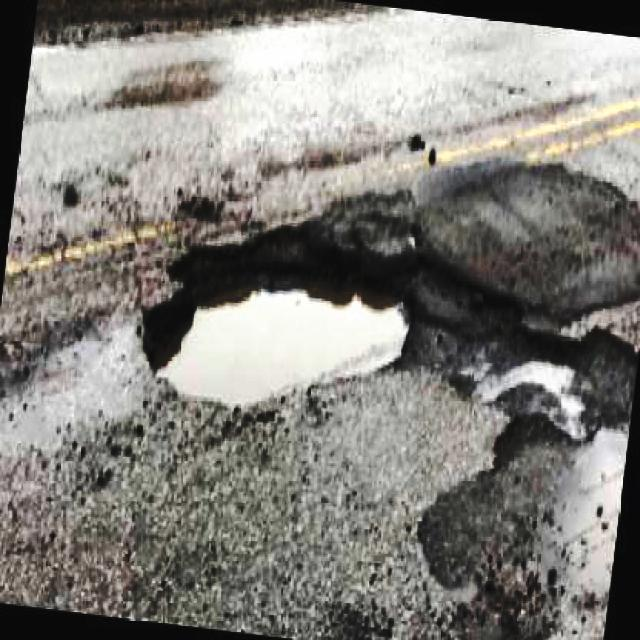pothole: (137, 216, 425, 407), (431, 265, 640, 449)
